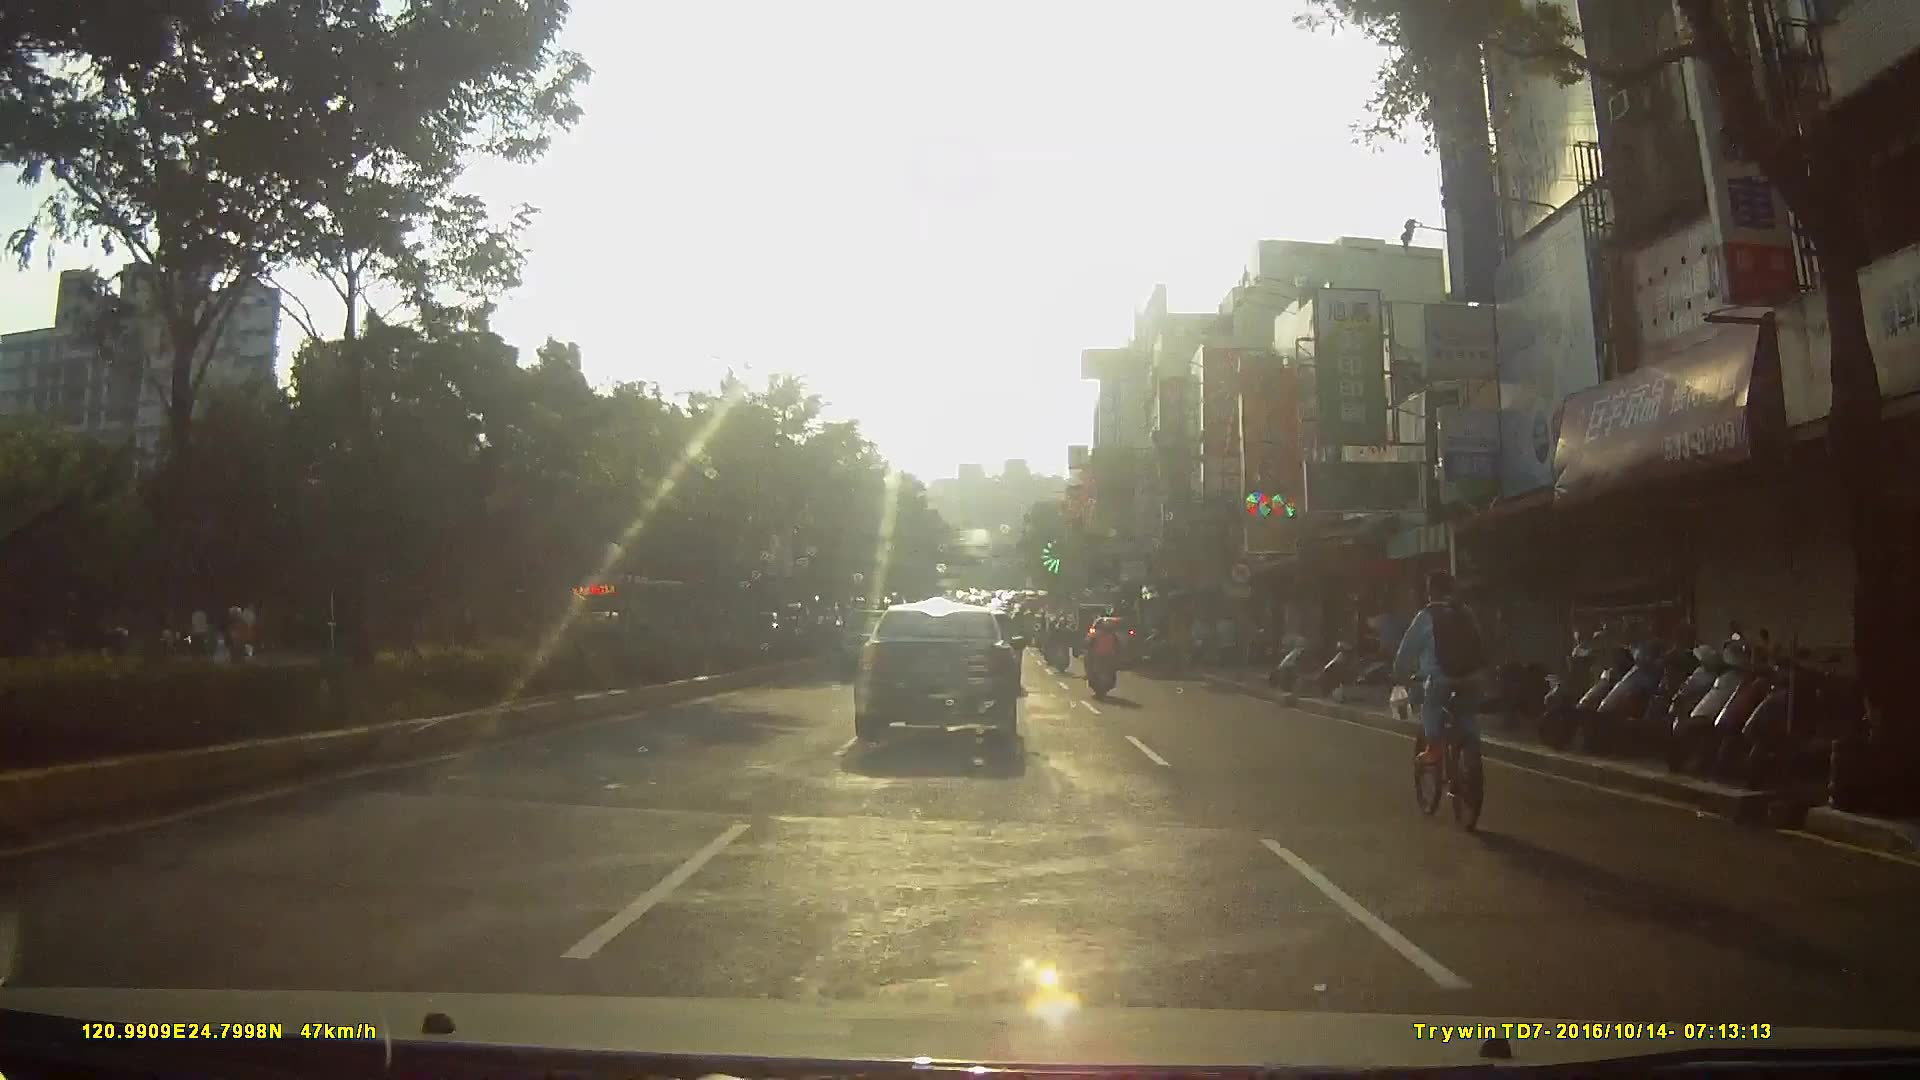rider: (1391, 568, 1491, 832), (207, 604, 257, 685), (1082, 622, 1121, 711), (1046, 617, 1073, 675)
vehicle: (850, 600, 1035, 767), (1080, 612, 1146, 669)
